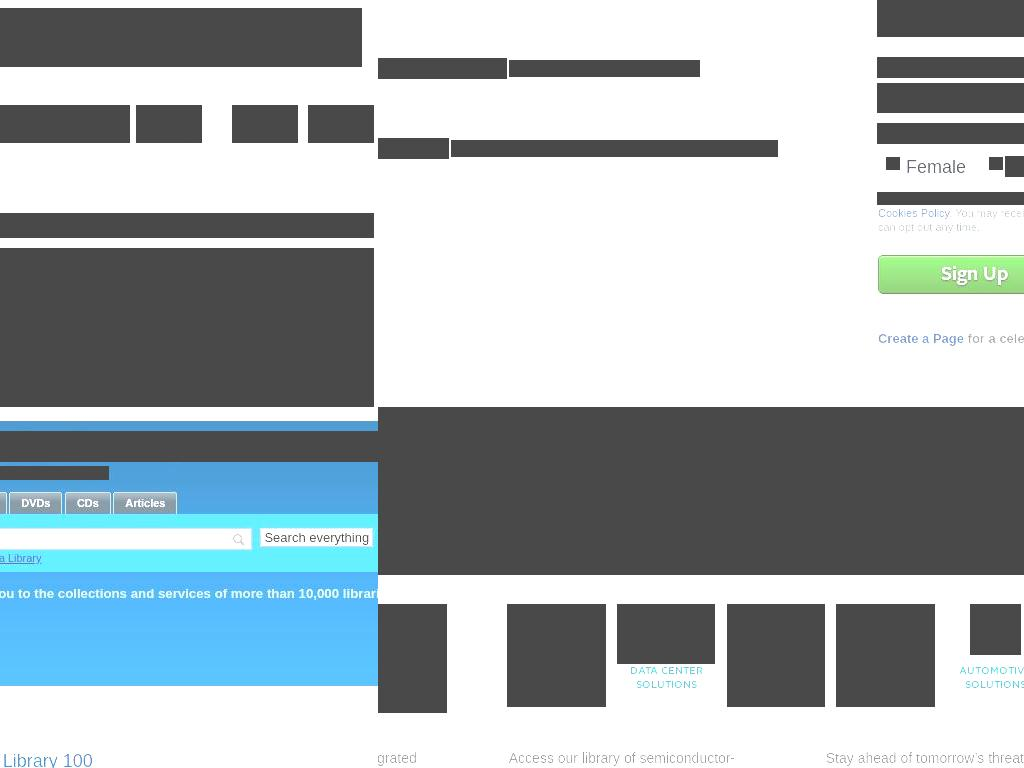button: (507, 604, 606, 707), (836, 604, 935, 707), (727, 604, 825, 707), (617, 604, 715, 693), (378, 532, 711, 553), (946, 604, 1024, 693), (877, 254, 1024, 294), (136, 105, 202, 143), (232, 105, 298, 143), (308, 105, 374, 143), (113, 493, 178, 514), (9, 493, 63, 514), (65, 493, 111, 514)
field: (0, 527, 253, 550), (877, 0, 1024, 37), (0, 105, 130, 143), (260, 527, 374, 547), (877, 83, 947, 113), (946, 83, 1003, 113), (1002, 83, 1024, 113), (886, 157, 900, 170), (989, 157, 1003, 170)
heading: (0, 431, 378, 462), (0, 213, 374, 238), (378, 407, 705, 430), (378, 604, 447, 713), (0, 585, 378, 601), (0, 751, 93, 768), (0, 466, 109, 480)
iframe: (0, 248, 374, 407)
image: (378, 407, 1024, 575), (0, 8, 362, 67), (451, 554, 793, 575), (792, 554, 1024, 575), (531, 604, 582, 655), (641, 604, 692, 655), (750, 604, 801, 655), (860, 604, 911, 655), (970, 604, 1021, 655)
label: (902, 156, 976, 177), (1005, 156, 1024, 177)
link: (877, 330, 964, 346), (114, 492, 177, 513), (10, 492, 62, 513), (877, 206, 949, 219), (66, 492, 110, 513), (0, 551, 42, 564)
text: (378, 456, 701, 523), (477, 738, 767, 768), (796, 738, 1024, 768), (451, 140, 778, 157), (507, 664, 606, 707), (836, 664, 935, 707), (727, 664, 825, 707), (877, 206, 1024, 233), (509, 60, 700, 77), (877, 57, 1024, 78), (877, 123, 1024, 144), (617, 664, 715, 693), (378, 58, 507, 79), (946, 664, 1024, 693), (877, 192, 1024, 205), (378, 138, 449, 159), (963, 330, 1024, 346)
